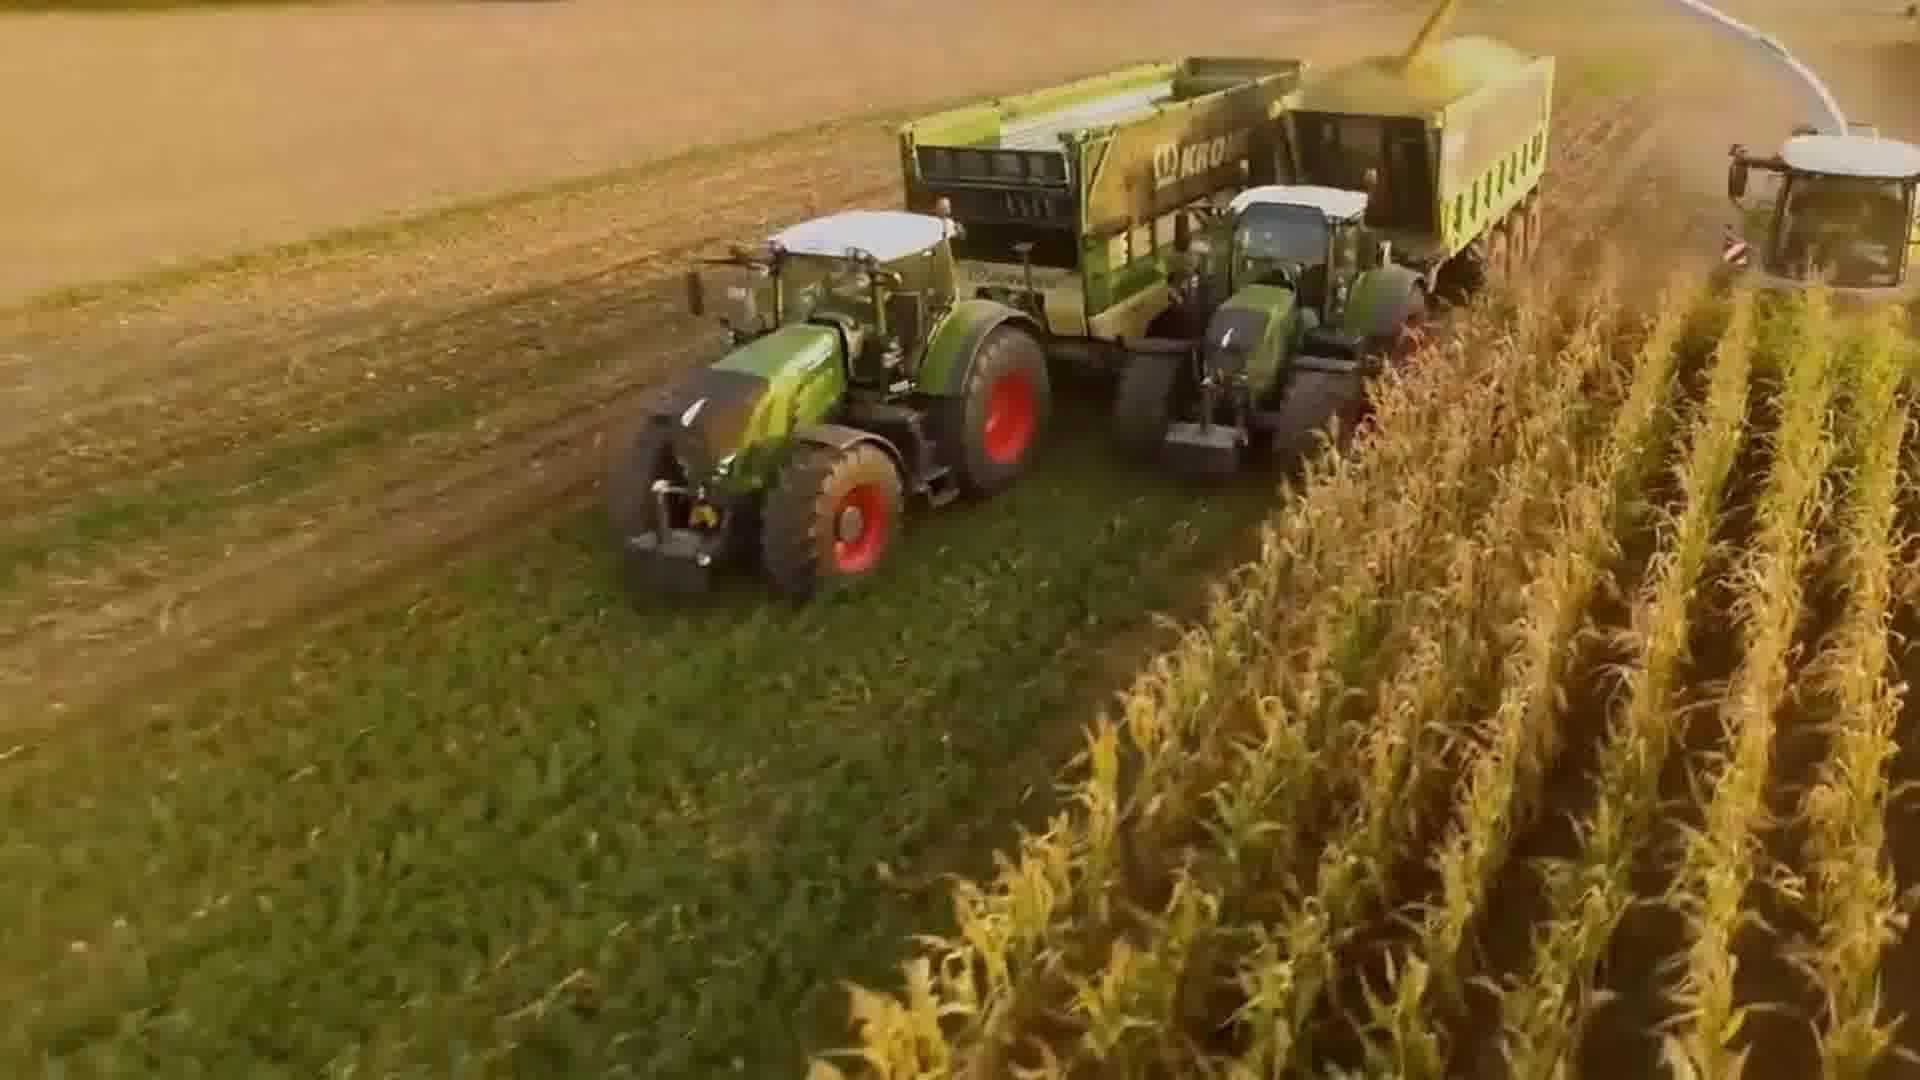combine harvester: (1644, 0, 1920, 320)
tractor: (596, 203, 1063, 612), (1113, 169, 1443, 493)
trailer: (897, 46, 1302, 328), (1273, 36, 1561, 287)
